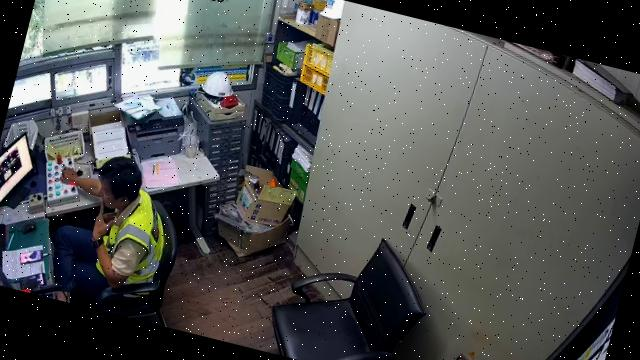Head: (100, 158, 142, 210)
People: (55, 158, 164, 299)
Phone: (19, 272, 46, 290), (21, 250, 43, 264)
